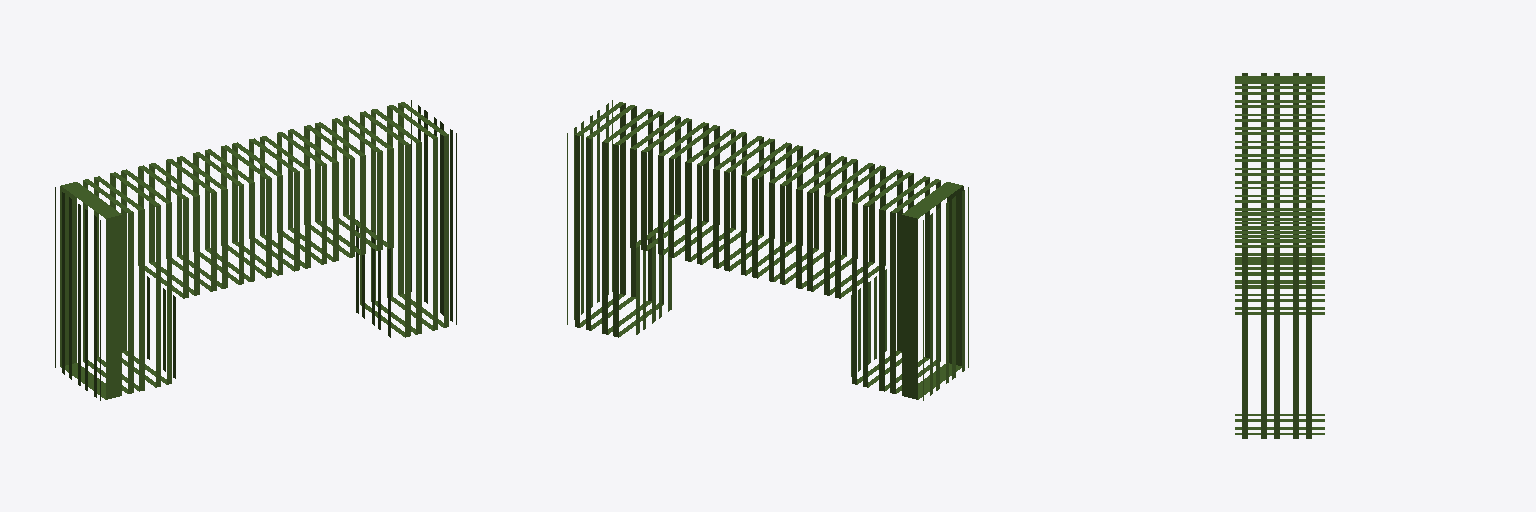
The picture shows the model from 3 angles: view 1: azimuth 30°, elevation 25°; view 2: azimuth 150°, elevation 25°; view 3: azimuth 270°, elevation 25°; orthographic projection.
Parts seen in each view (by area): view 1: Cube; view 2: Cube; view 3: Cube.
Part boxes in pixels (x1,y1,x2,y2): Cube: (55,100,456,400); Cube: (567,100,968,400); Cube: (1235,73,1324,438).
Bounding box in the file's own units: 9.06 × 4.67 × 2.
Materials: 1 (1 with a texture image).